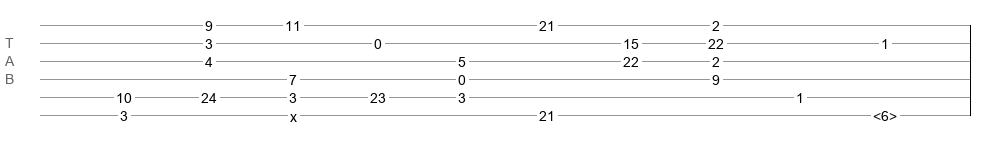0: (374, 36, 382, 46), (458, 72, 466, 82)
1: (796, 90, 804, 100), (881, 36, 889, 46)
10: (116, 90, 132, 100)
11: (285, 18, 301, 28)
15: (623, 36, 639, 46)
2: (712, 54, 720, 64), (712, 18, 720, 28)
21: (539, 108, 555, 118), (539, 18, 555, 28)
22: (623, 54, 639, 64), (708, 36, 724, 46)
23: (370, 90, 386, 100)
24: (201, 90, 217, 100)
3: (120, 108, 128, 118), (205, 36, 213, 46), (289, 90, 297, 100), (458, 90, 466, 100)
4: (205, 54, 213, 64)
5: (458, 54, 466, 64)
7: (289, 72, 297, 82)
9: (205, 18, 213, 28), (712, 72, 720, 82)
harmonic: (873, 108, 897, 118)
x: (290, 109, 297, 117)
